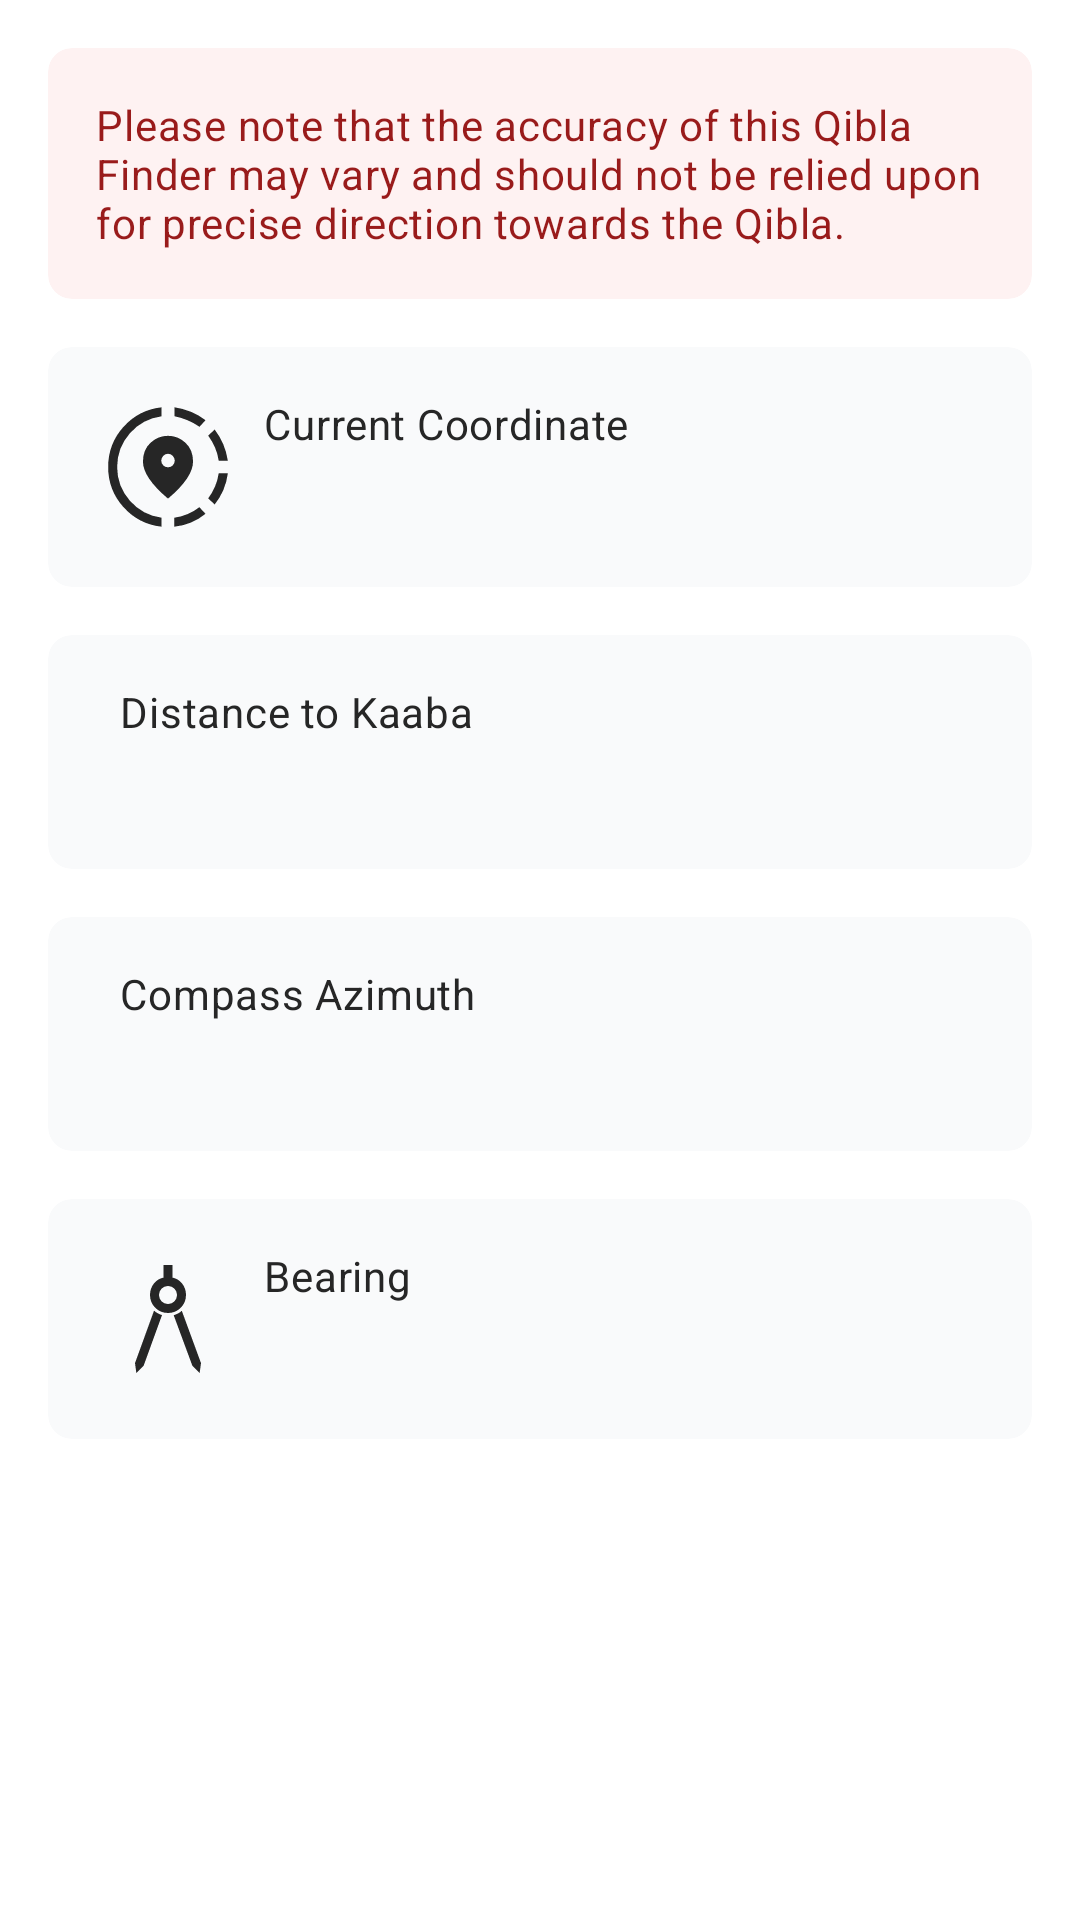

Point at icon controls on the screen. Image size 1080 x 1920, points as point (x, y).
angle: point (168, 1319)
